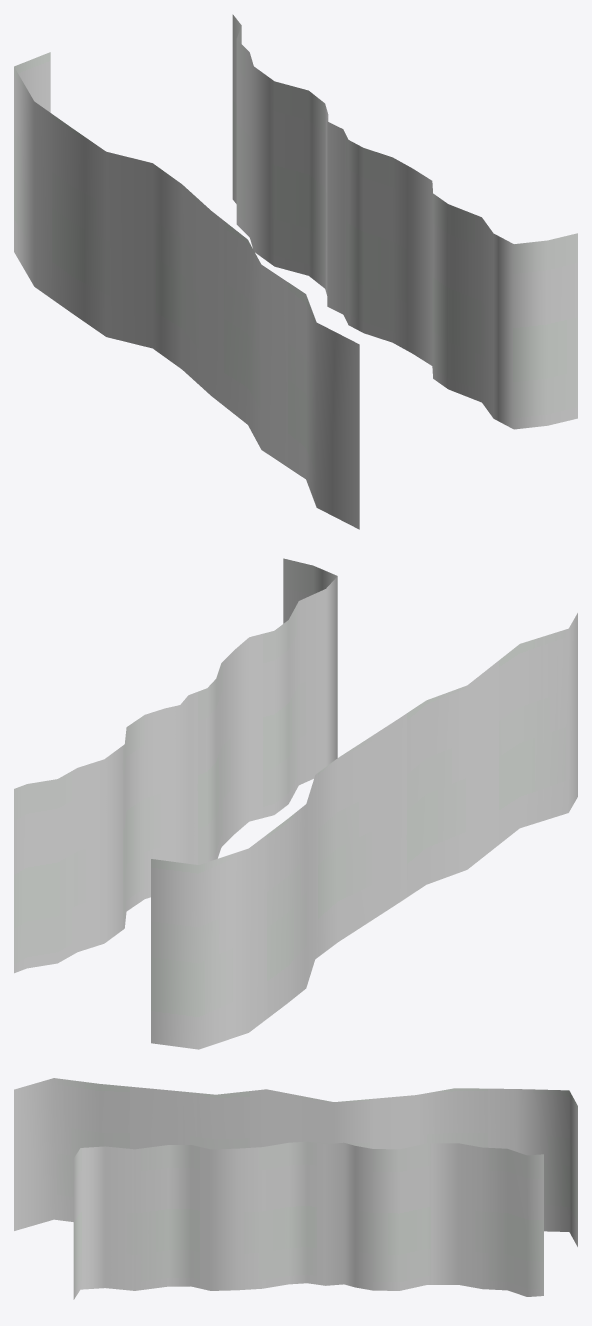
Rendered from Q514_ALPHA_NOBRIDGE.glb.
3 renders of one model, top to bottom at view 1: azimuth 30°, elevation 25°; view 2: azimuth 150°, elevation 25°; view 3: azimuth 270°, elevation 25°, orthographic. The views are drawn at different scales.
Parts seen in each view (by area): view 1: Mesh; view 2: Mesh; view 3: Mesh.
Part boxes in pixels (x1=…): Mesh: x1=14, y1=14, x2=577, y2=529; Mesh: x1=14, y1=558, x2=577, y2=1049; Mesh: x1=14, y1=1078, x2=577, y2=1299.
Bounding box in the file's own units: 12.17 × 8.93 × 28.37.
Materials: 1 (1 with a texture image).
